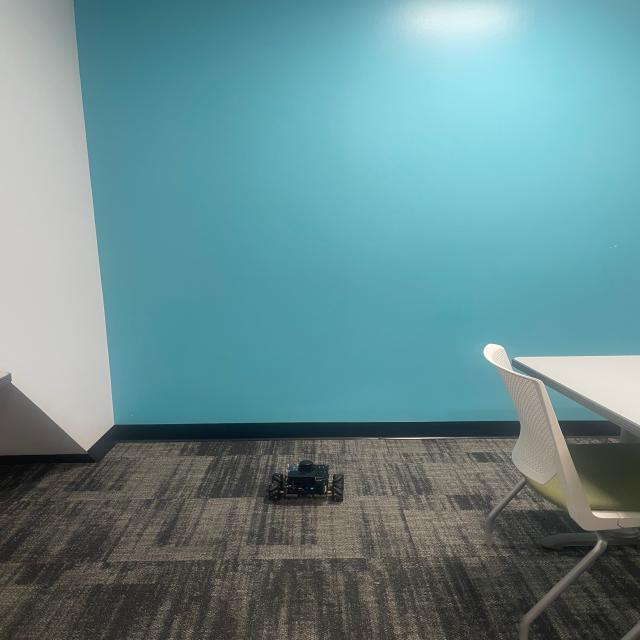ArduinoCar: (264, 456, 350, 506)
